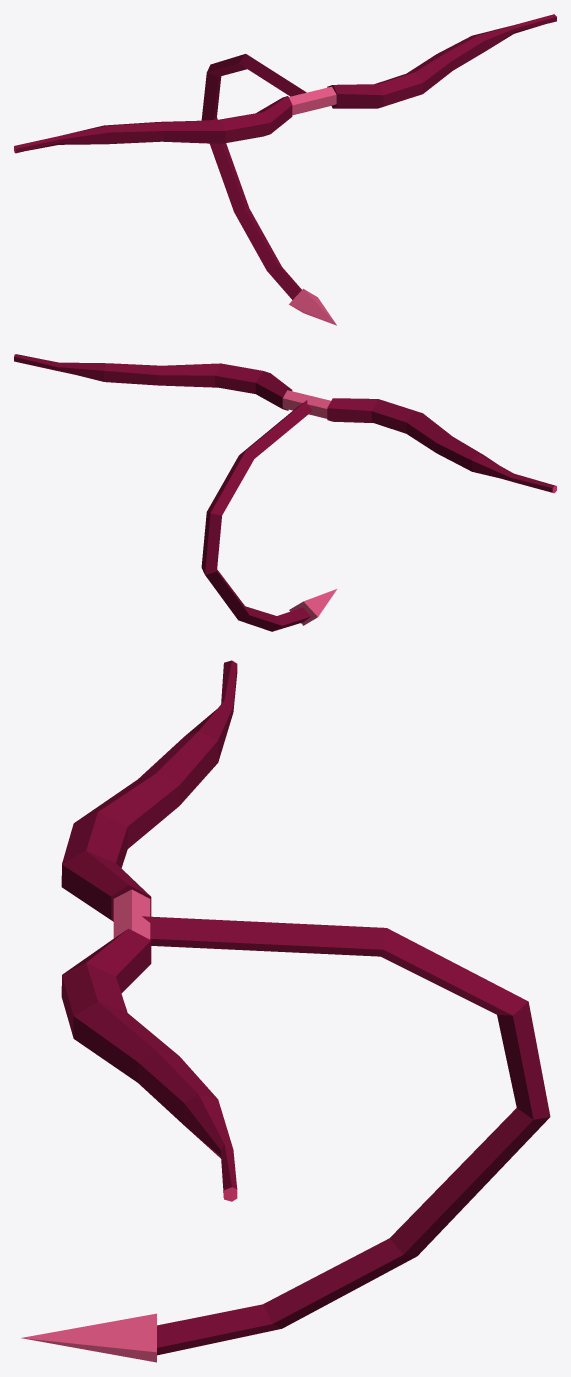
Rendered from Sagittarius.fbx.
The picture shows the model from 3 angles, top to bottom: view 1: azimuth 30°, elevation 25°; view 2: azimuth 150°, elevation 25°; view 3: azimuth 270°, elevation 25°; orthographic projection. The views are drawn at different scales.
Parts seen in each view (by area): view 1: Sagittarius; view 2: Sagittarius; view 3: Sagittarius.
Part boxes in pixels (box(x1,y1,x2,y2)): Sagittarius: box(14, 14, 556, 325); Sagittarius: box(14, 354, 556, 631); Sagittarius: box(21, 660, 550, 1362).
Bounding box in the file's own units: 10.21 × 4.11 × 4.33.
